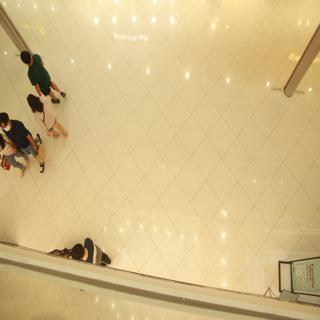person: (13, 41, 69, 105), (25, 85, 75, 148), (1, 113, 50, 177)
